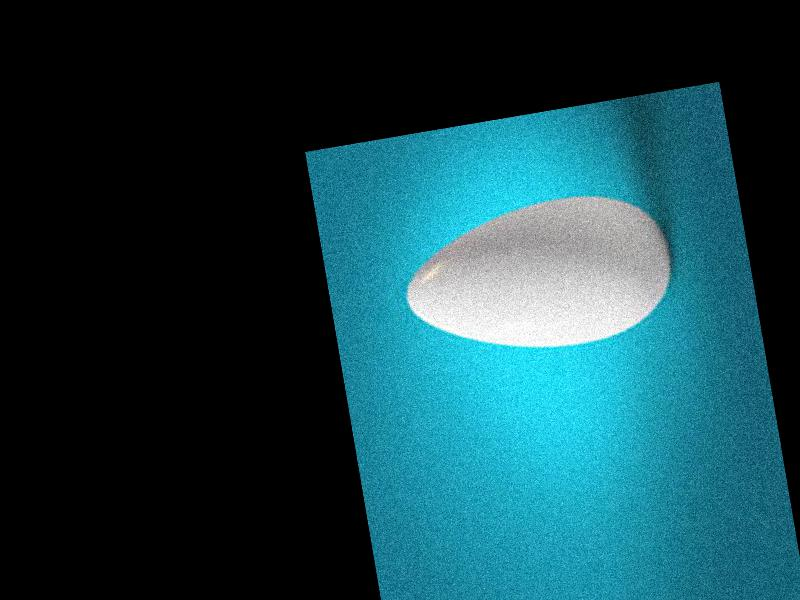Eggs: (396, 181, 682, 371)
